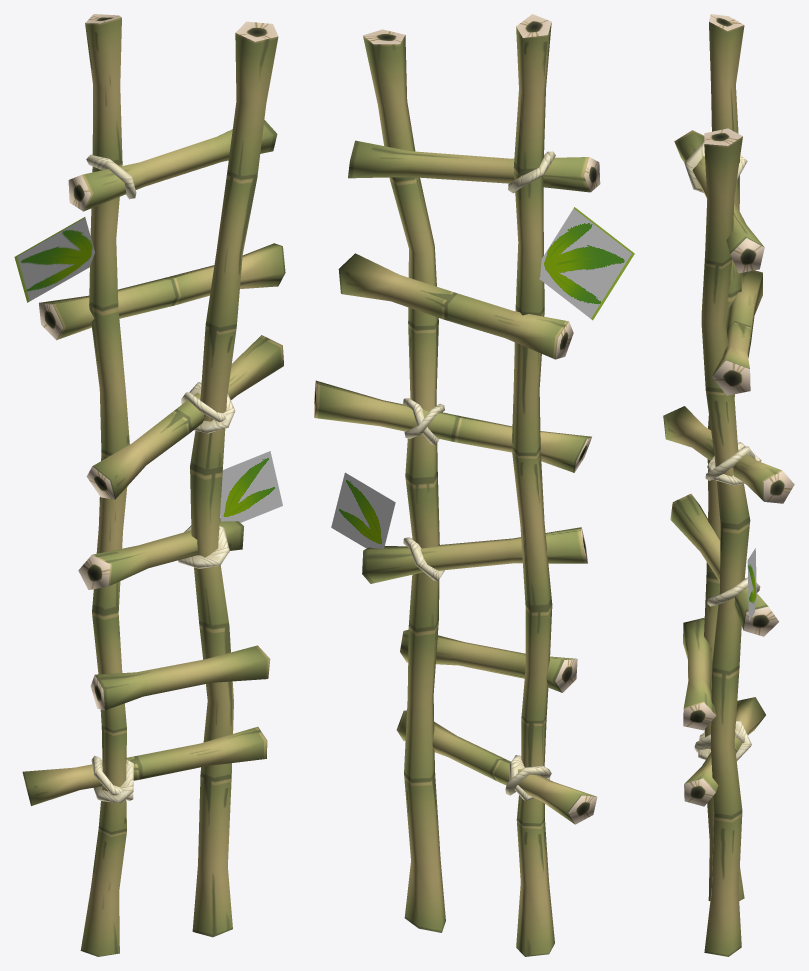
File: LadderLongBamboo.fbx
3 renders of one model, left to right at view 1: azimuth 30°, elevation 25°; view 2: azimuth 150°, elevation 25°; view 3: azimuth 270°, elevation 25°, orthographic. The views are drawn at different scales.
Parts seen in each view (by area): view 1: boo.001, boo.002, lef, boo.013, boo.012, boo.009, boo.010, boo.014, boo.011, rop.004, rop.005, rop.001 (+1 smaller); view 2: boo.002, boo.001, lef, boo.013, boo.012, boo.014, boo.011, boo.009, boo.010; view 3: boo.001, boo.002, boo.013, boo.012, boo.011, boo.010, boo.014, boo.009, rop.005, lef, rop.003, rop.004 (+2 smaller).
Part boxes in pixels (<box>): boo.001: <box>190,21,278,937</box>; boo.002: <box>80,14,129,956</box>; lef: <box>14,217,282,522</box>; boo.013: <box>39,243,285,340</box>; boo.012: <box>86,335,283,499</box>; boo.009: <box>22,726,267,805</box>; boo.010: <box>90,645,270,710</box>; boo.014: <box>68,120,277,211</box>; boo.011: <box>78,518,243,589</box>; rop.004: <box>178,525,229,568</box>; rop.005: <box>86,154,136,199</box>; rop.001: <box>93,760,133,803</box>; boo.002: <box>511,14,554,956</box>; boo.001: <box>363,29,445,932</box>; lef: <box>331,207,634,548</box>; boo.013: <box>338,253,573,359</box>; boo.012: <box>314,380,591,472</box>; boo.014: <box>348,140,600,192</box>; boo.011: <box>362,527,587,583</box>; boo.009: <box>396,710,597,824</box>; boo.010: <box>400,629,577,692</box>; boo.001: <box>701,128,750,956</box>; boo.002: <box>704,14,744,900</box>; boo.013: <box>712,270,762,395</box>; boo.012: <box>663,406,794,503</box>; boo.011: <box>670,494,778,636</box>; boo.010: <box>683,618,716,730</box>; boo.014: <box>674,130,764,273</box>; boo.009: <box>684,697,765,806</box>; rop.005: <box>684,142,747,192</box>; lef: <box>747,548,756,620</box>; rop.003: <box>705,446,755,480</box>; rop.004: <box>707,577,760,606</box>.
Size of the model in its own units: 329 by 996 by 134.
